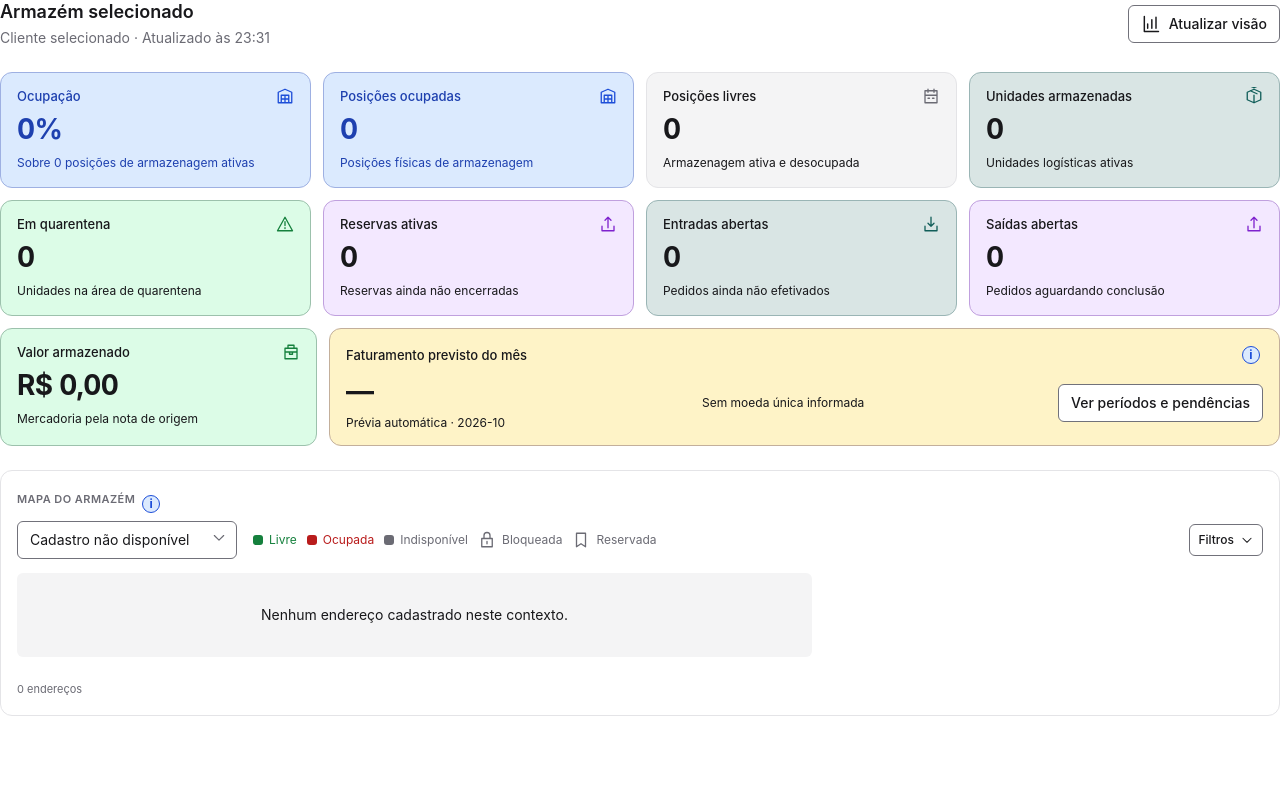
Test: explica a ausência de moeda única mesmo em prévia completa sem períodos
This screenshot has width=1280, height=800.
Expected: the text "Sem moeda única informada" is shown, x1=702 y1=395 x2=864 y2=410
Expected: the text "—" is shown, x1=346 y1=374 x2=373 y2=408
Step 1. Click the button "Ver períodos e pendências" → (1160, 403), box x1=1058 y1=384 x2=1263 y2=422
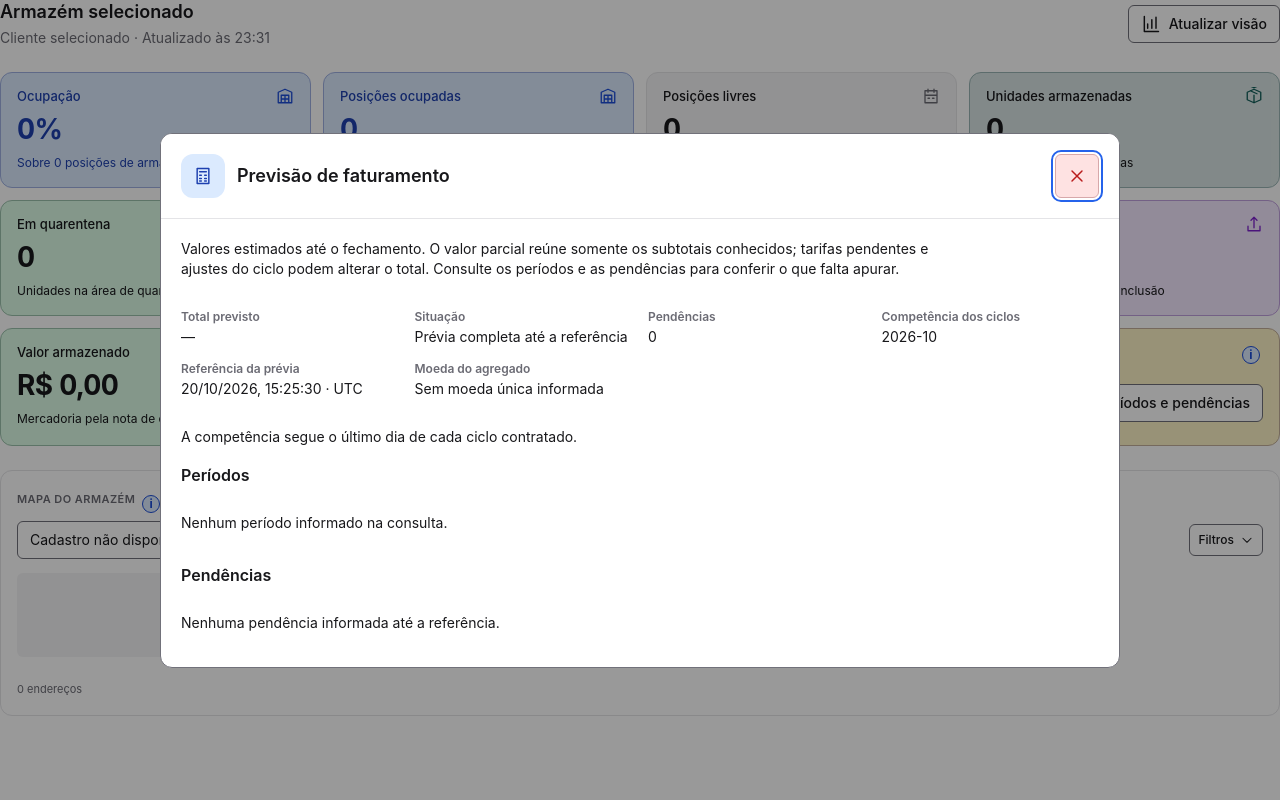
Expected: the element showing "Total previsto —" is shown, x1=181 y1=308 x2=260 y2=344
Expected: the dialog shows "Sem moeda única informada", x1=414 y1=380 x2=604 y2=396
